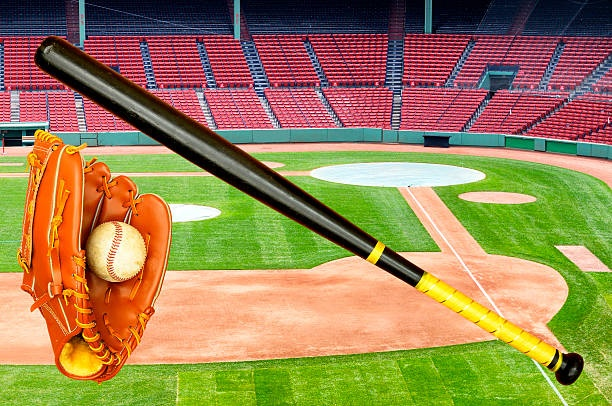bita: (32, 33, 579, 375)
